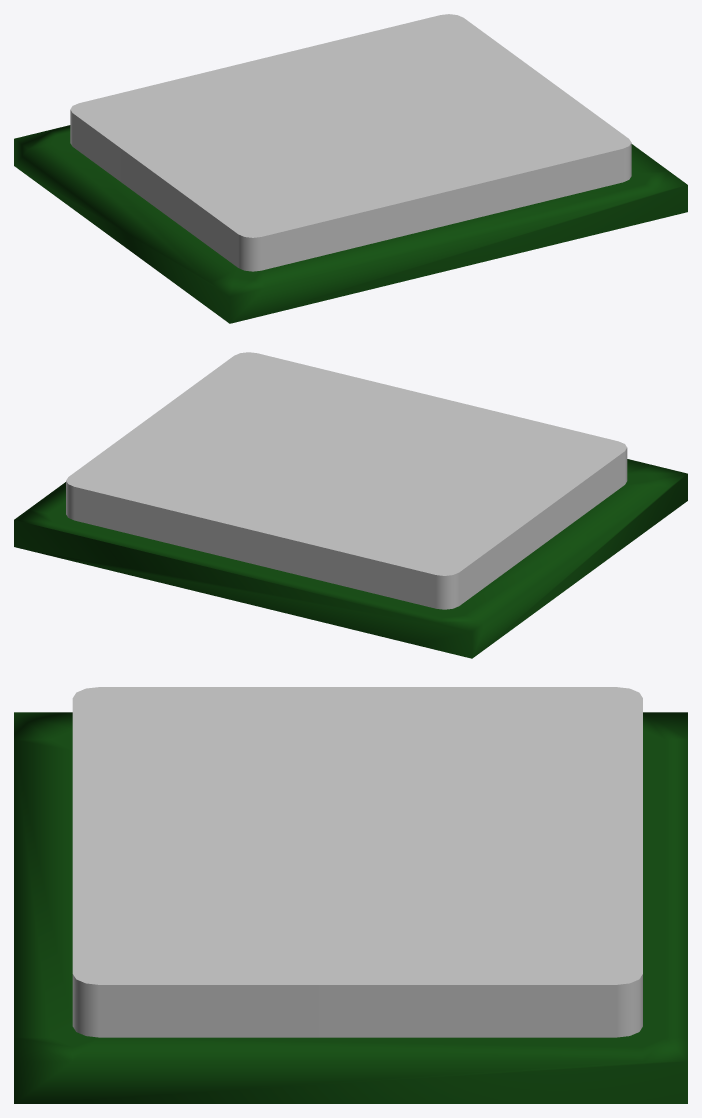
The model's file is CPU.fbx.
3 views of the same model, one above another, from view 1: azimuth 30°, elevation 25°; view 2: azimuth 150°, elevation 25°; view 3: azimuth 270°, elevation 25° (orthographic). The views are drawn at different scales.
Visible parts, largest first — view 1: CPU; view 2: CPU; view 3: CPU.
Part boxes in pixels (x1,y1,x2,y2): CPU: [14, 14, 687, 323]; CPU: [14, 352, 687, 658]; CPU: [14, 687, 687, 1103].
Size of the model in its own units: 0.526 by 0.0668 by 0.4292.
